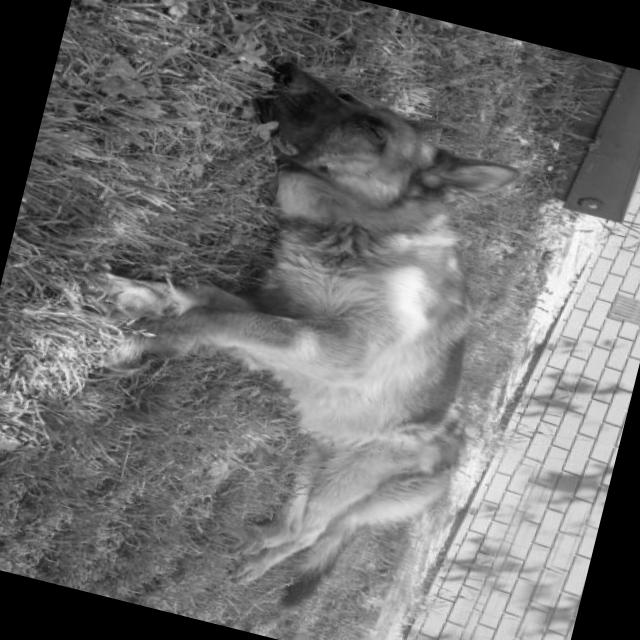laying down: (11, 22, 553, 640)
